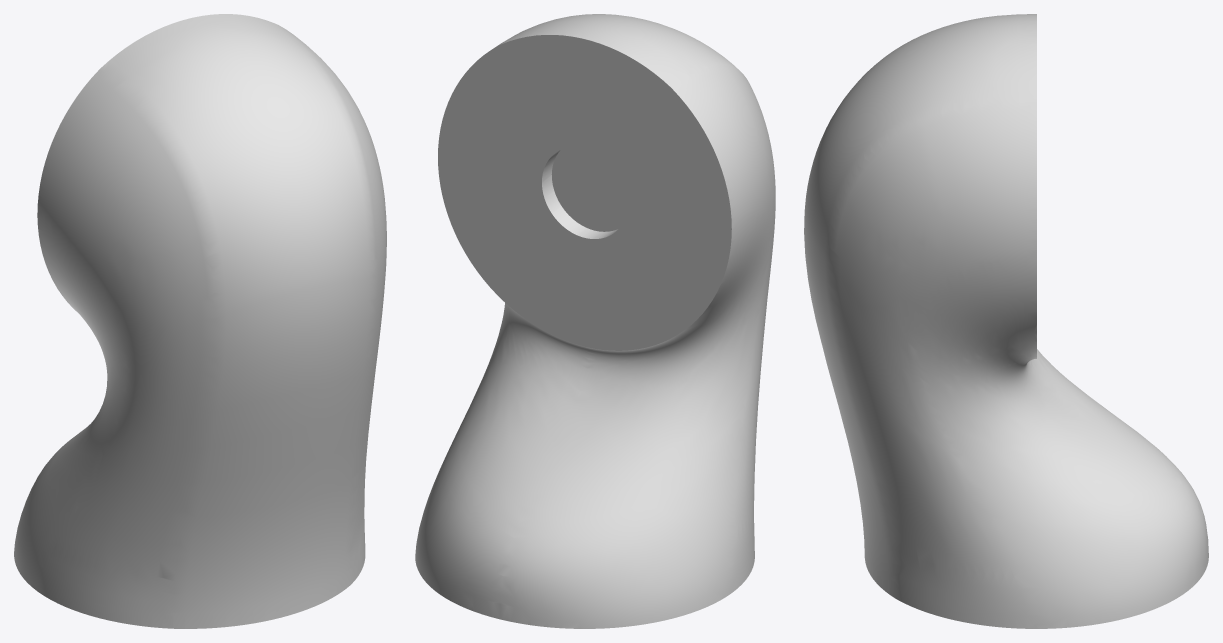
Rendered from v_kuka_link_1.dae.
The picture shows the model from 3 angles, left to right: view 1: azimuth 30°, elevation 25°; view 2: azimuth 150°, elevation 25°; view 3: azimuth 270°, elevation 25°; orthographic projection. The views are drawn at different scales.
Parts seen in each view (by area): view 1: link_1; view 2: link_1; view 3: link_1.
Part boxes in pixels (x1,y1,x2,y2): link_1: [14, 14, 386, 628]; link_1: [415, 14, 775, 628]; link_1: [804, 14, 1208, 628].
Bounding box in the file's own units: 0.171 × 0.2012 × 0.298.
Materials: 1 (1 with a texture image).
